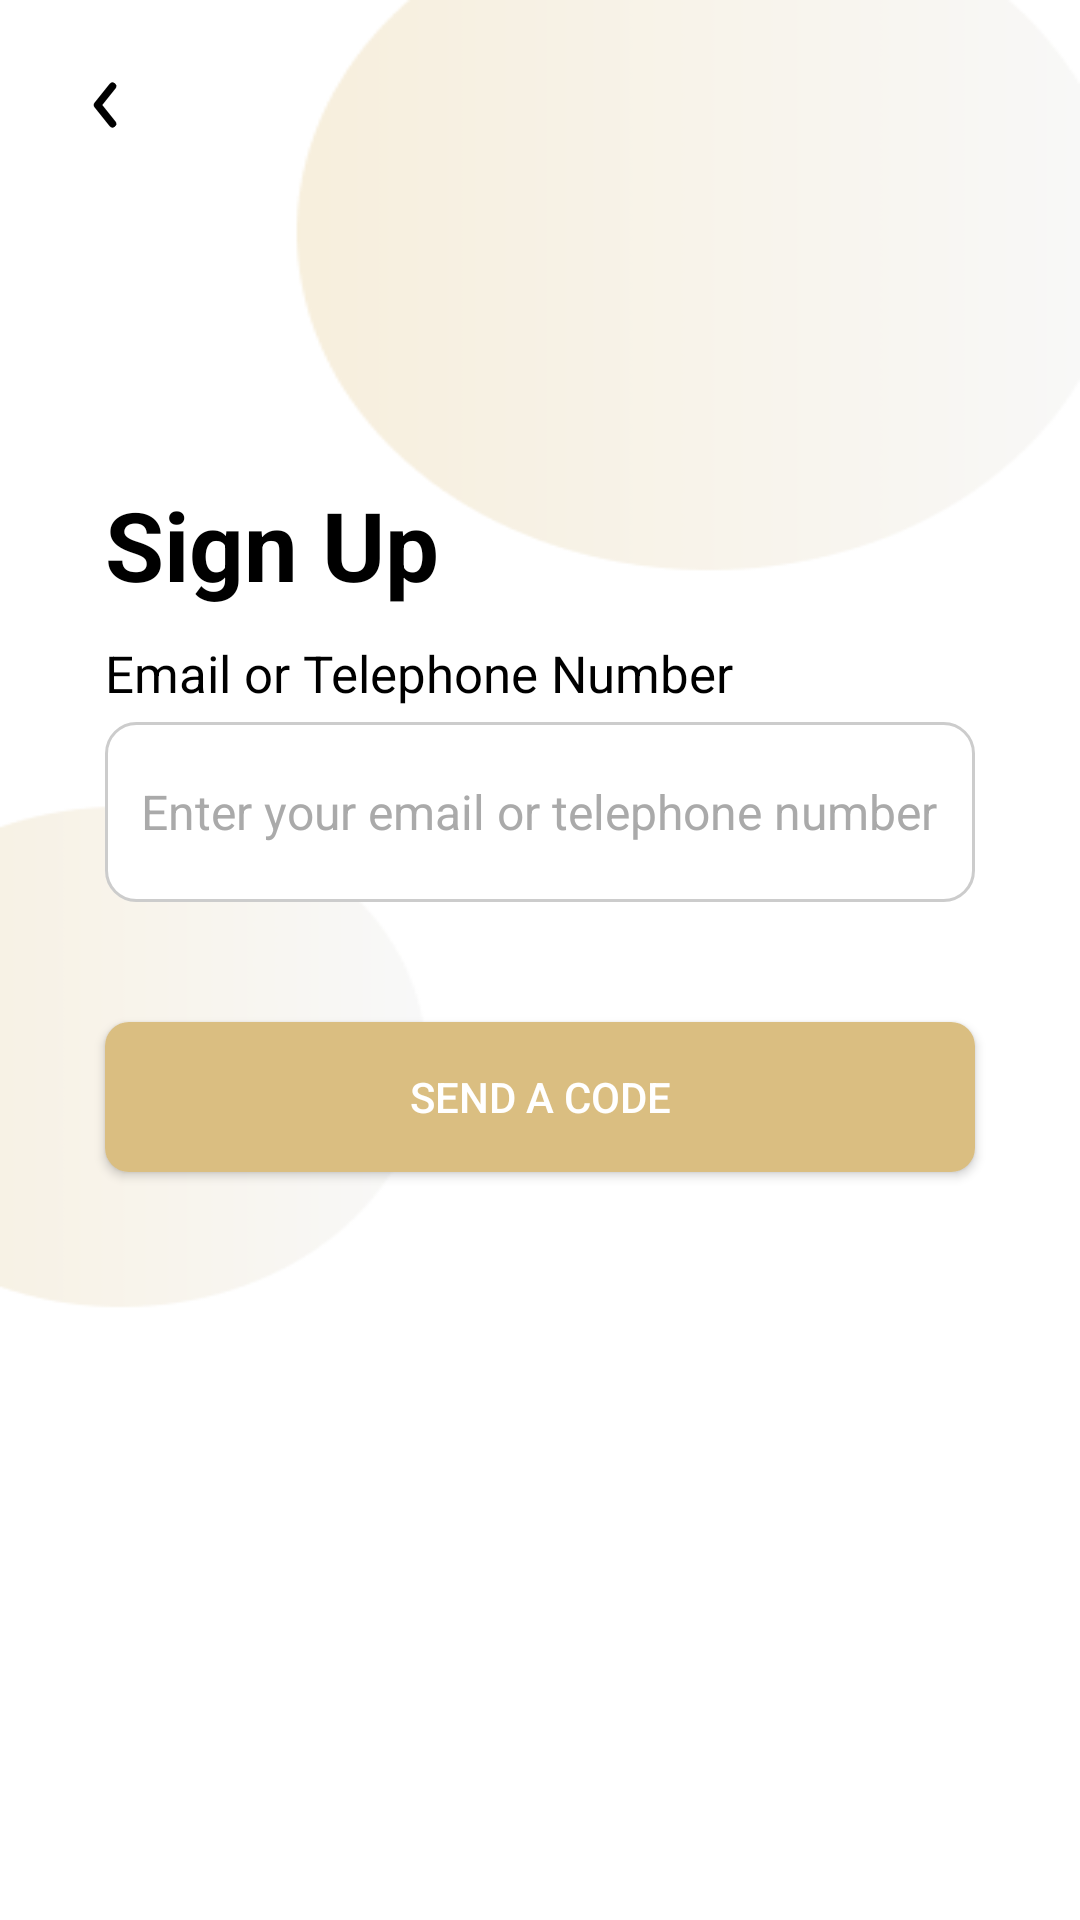

Locate icon controls on the screen. Image size 1080px x 1920px, boxes as (x1, y1, x2, y2).
Back Button: (93, 82, 117, 128)
